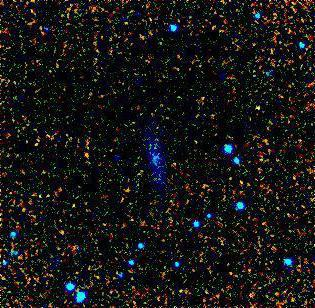star: (244, 93, 274, 123)
